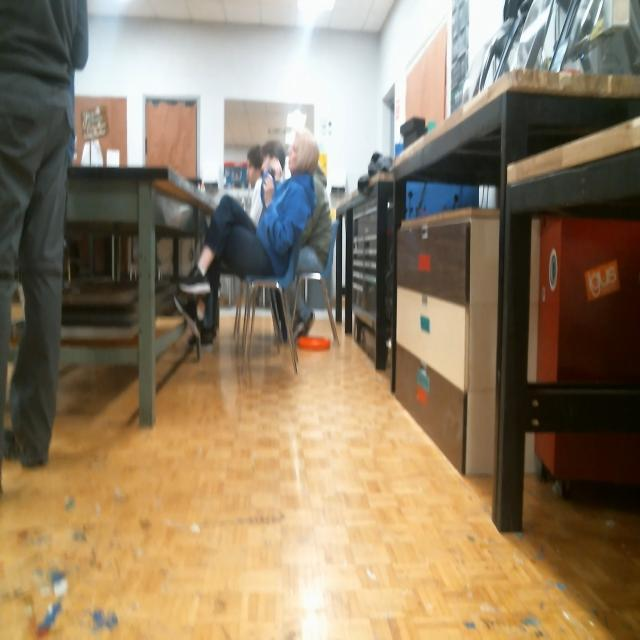note: (295, 332, 331, 356)
